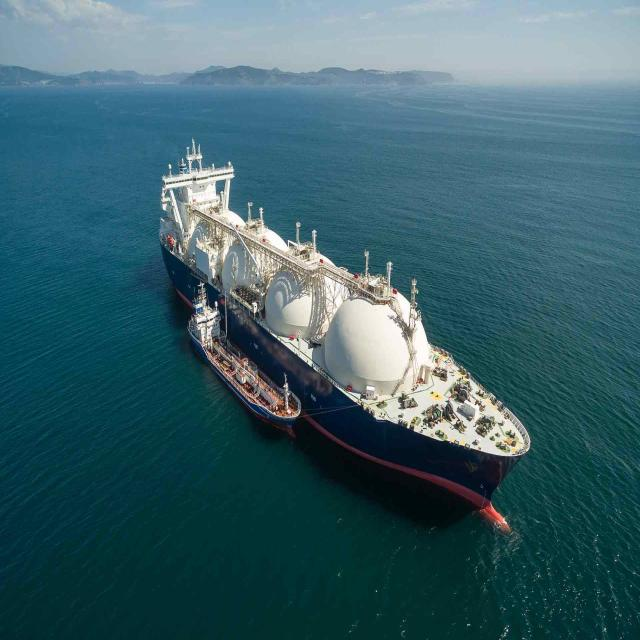boat: (158, 148, 538, 542)
